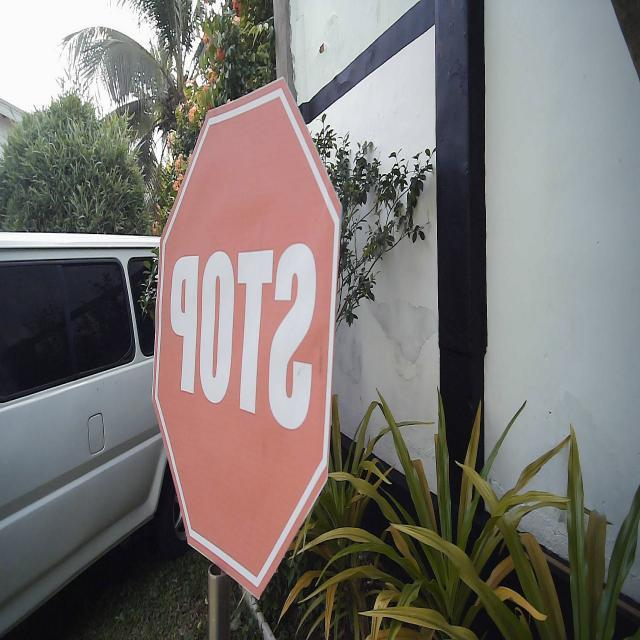stop: (148, 72, 344, 606)
